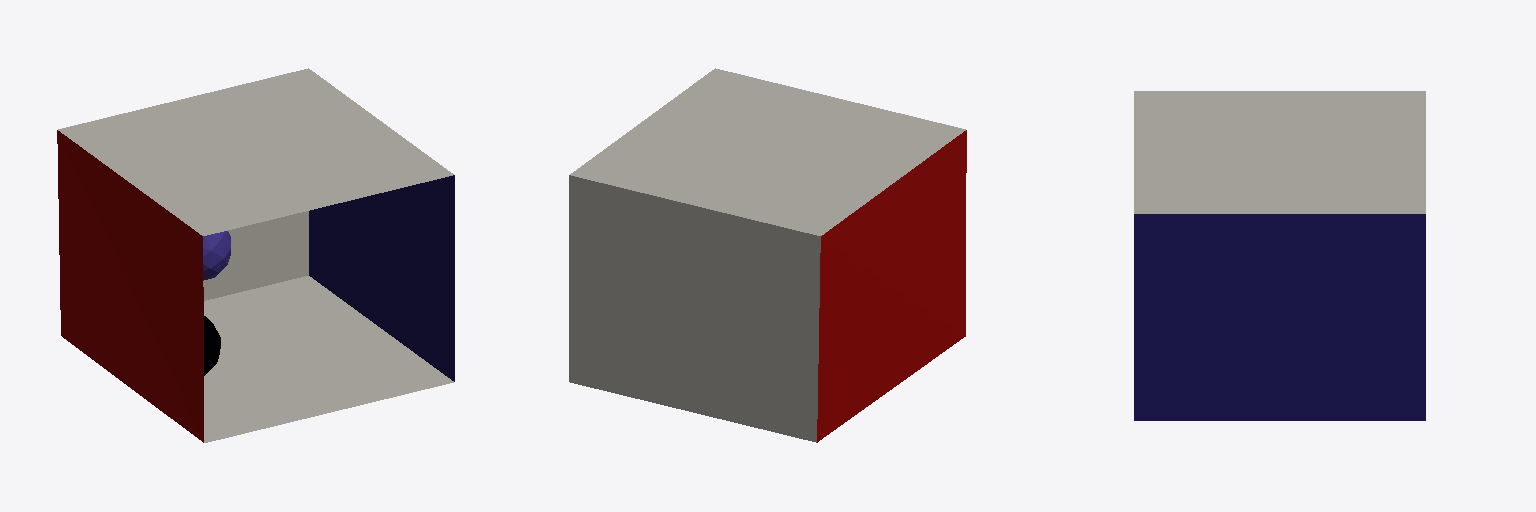
File: CornellBox-Sphere-25.obj
3 renders of one model, left to right at view 1: azimuth 30°, elevation 25°; view 2: azimuth 150°, elevation 25°; view 3: azimuth 270°, elevation 25°, orthographic.
Visible parts, largest first — view 1: ceiling, leftWall, floor, rightWall, backWall, leftSphere, rightSphere; view 2: backWall, ceiling, leftWall; view 3: rightWall, ceiling.
Part boxes in pixels (left/top/right/bottom): ceiling: left=58, top=68, right=453, bottom=235; leftWall: left=57, top=130, right=203, bottom=442; floor: left=204, top=276, right=453, bottom=442; rightWall: left=309, top=175, right=454, bottom=381; backWall: left=203, top=211, right=308, bottom=300; leftSphere: left=203, top=231, right=230, bottom=280; rightSphere: left=204, top=316, right=220, bottom=375; backWall: left=569, top=175, right=820, bottom=442; ceiling: left=570, top=68, right=965, bottom=235; leftWall: left=817, top=130, right=966, bottom=442; rightWall: left=1134, top=214, right=1425, bottom=420; ceiling: left=1134, top=91, right=1425, bottom=213.
Size of the model in its own units: 2.02 by 1.59 by 2.03.